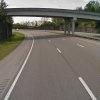Bridge: (5, 2, 100, 39)
